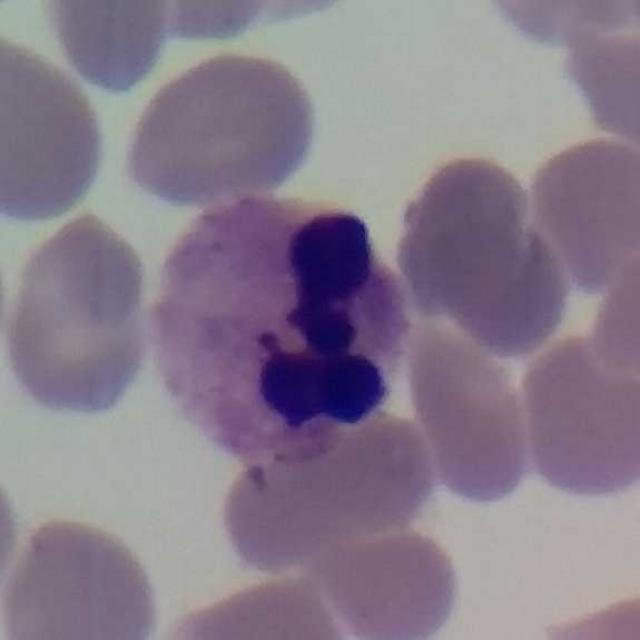Neutrophil: (132, 177, 426, 479)
RBC: (216, 390, 441, 571), (117, 46, 327, 209), (0, 206, 156, 425), (405, 204, 577, 358), (388, 145, 541, 318), (401, 312, 536, 508), (0, 28, 114, 228), (514, 325, 640, 504), (0, 508, 167, 640), (523, 130, 640, 294), (316, 521, 468, 640), (34, 0, 180, 98), (146, 572, 353, 640), (556, 0, 640, 152), (89, 0, 285, 49), (585, 234, 640, 386), (489, 0, 640, 48), (530, 585, 640, 640), (0, 443, 24, 622), (0, 218, 14, 406)
